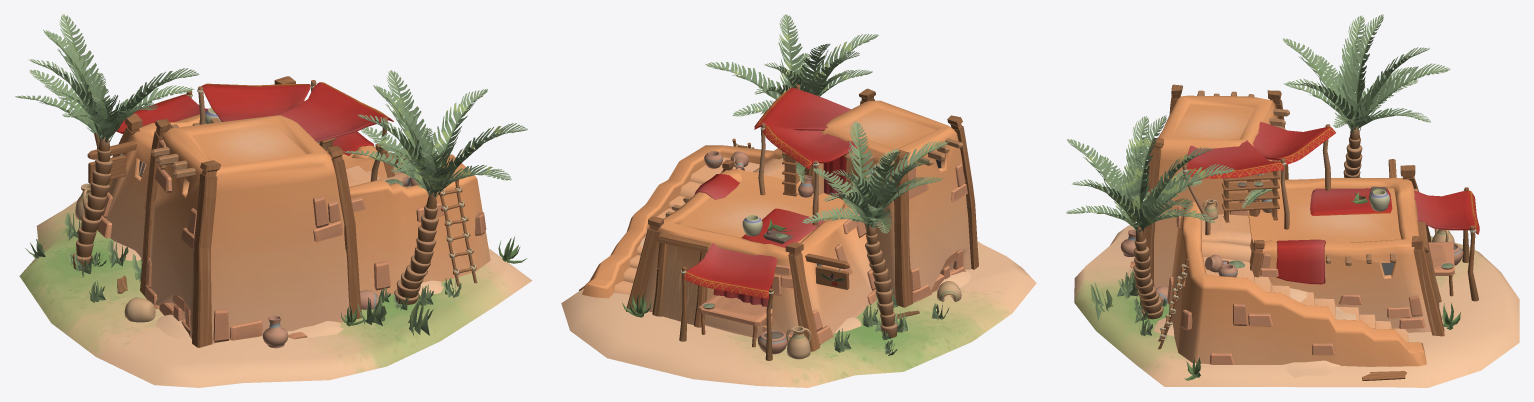
File: dae_villages__house_of_an_ancient_egyptian_swnw.glb
The picture shows the model from 3 angles, left to right: view 1: azimuth 30°, elevation 25°; view 2: azimuth 150°, elevation 25°; view 3: azimuth 270°, elevation 25°; orthographic projection. The views are drawn at different scales.
Parts seen in each view (by area): view 1: Object_2, Object_4; view 2: Object_2, Object_4; view 3: Object_2, Object_4.
Boxes of the visible parts, <box> form: Object_2: <box>19,76,532,387</box>; Object_4: <box>15,14,527,335</box>; Object_2: <box>561,84,1036,387</box>; Object_4: <box>622,14,949,355</box>; Object_2: <box>1074,84,1519,387</box>; Object_4: <box>1066,14,1460,380</box>.
Size of the model in its own units: 957 by 554 by 1045.
3 materials, 2 textured.
